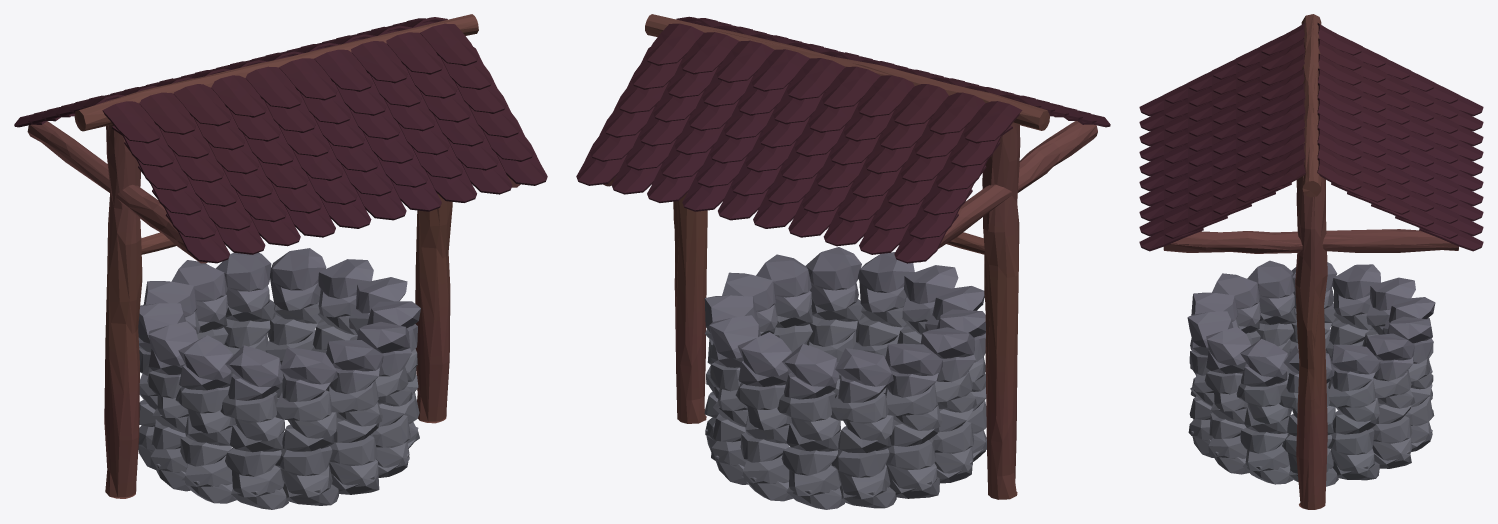
File: kolodets.fbx
3 views of the same model, side by side, from view 1: azimuth 30°, elevation 25°; view 2: azimuth 150°, elevation 25°; view 3: azimuth 270°, elevation 25° (orthographic). The views are drawn at different scales.
Parts seen in each view (by area): view 1: generic_08; view 2: generic_08; view 3: generic_08.
Boxes of the visible parts, box(x1,y1,x2,y2) form: generic_08: box(14, 14, 547, 509); generic_08: box(576, 14, 1110, 509); generic_08: box(1139, 14, 1483, 509).
Bounding box in the file's own units: 526 × 504 × 456.
